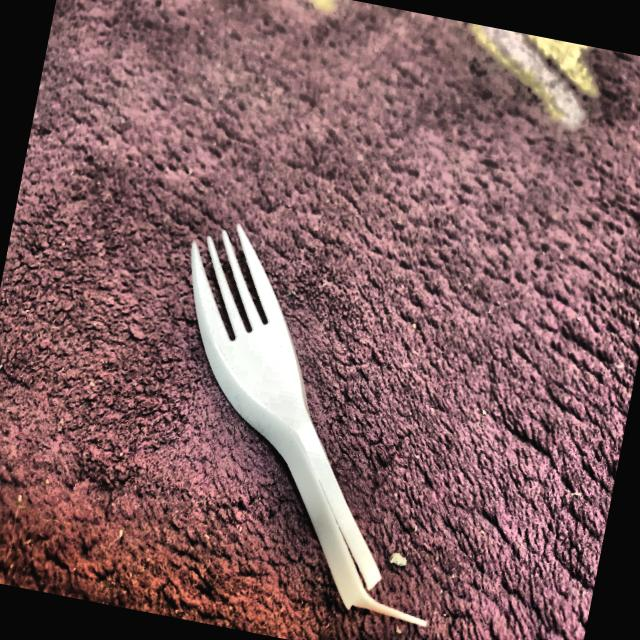plastic utensil: (116, 209, 498, 640)
